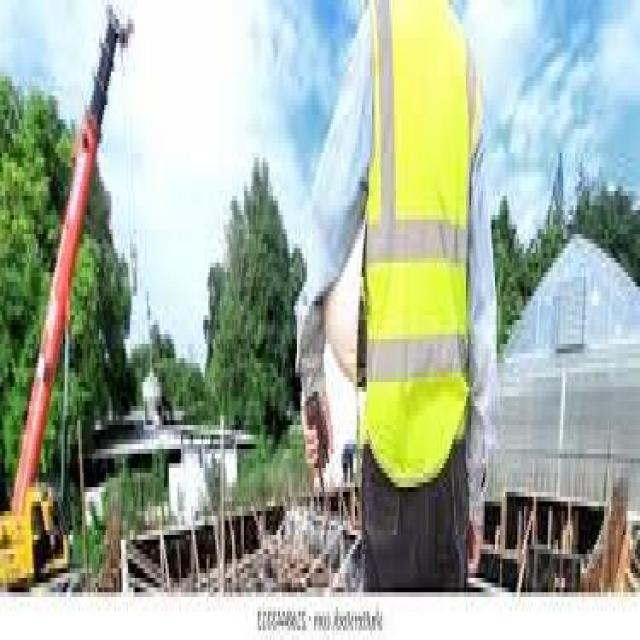Reflective-Jacket: (346, 5, 486, 506)
